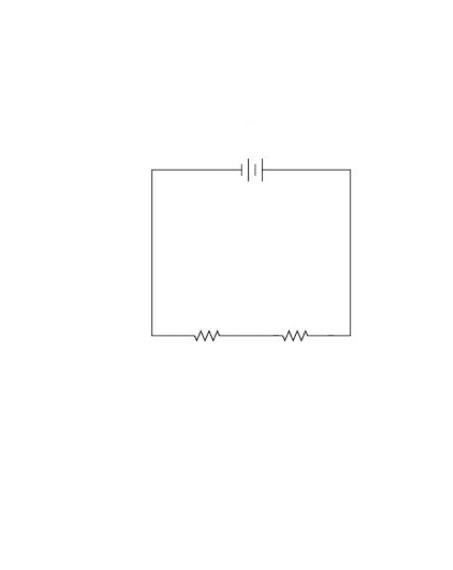resistor: (178, 310, 241, 353), (263, 314, 323, 348)
